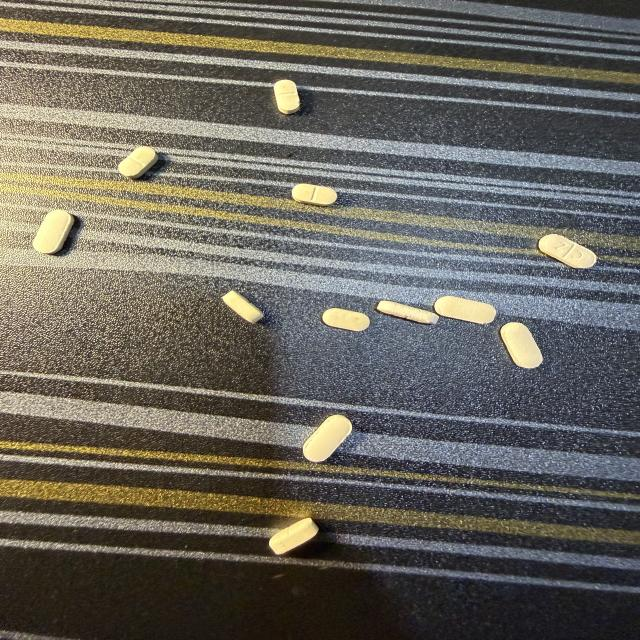pill: (303, 415, 351, 462), (539, 234, 597, 268), (501, 323, 542, 368), (269, 518, 318, 554), (33, 210, 74, 253), (435, 297, 496, 323), (377, 301, 438, 324), (223, 291, 263, 322), (118, 147, 158, 178), (322, 308, 369, 331), (292, 184, 337, 206), (274, 80, 300, 114)
